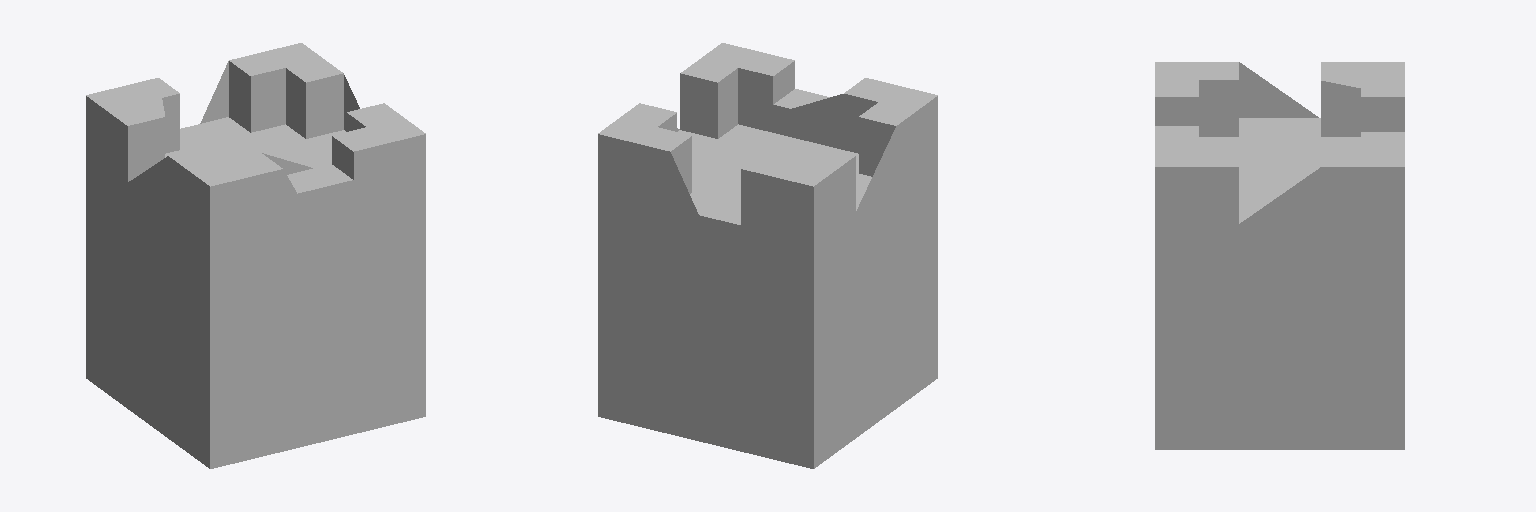
File: tower4.obj
The picture shows the model from 3 angles: view 1: azimuth 30°, elevation 25°; view 2: azimuth 150°, elevation 25°; view 3: azimuth 270°, elevation 25°; orthographic projection.
Visible parts, largest first — view 1: Kostka; view 2: Kostka; view 3: Kostka.
Boxes of the visible parts, box(x1,y1,x2,y2) form: Kostka: box(86, 43, 425, 468); Kostka: box(598, 43, 937, 468); Kostka: box(1155, 62, 1404, 449).
Size of the model in its own units: 2 by 2.5 by 2.